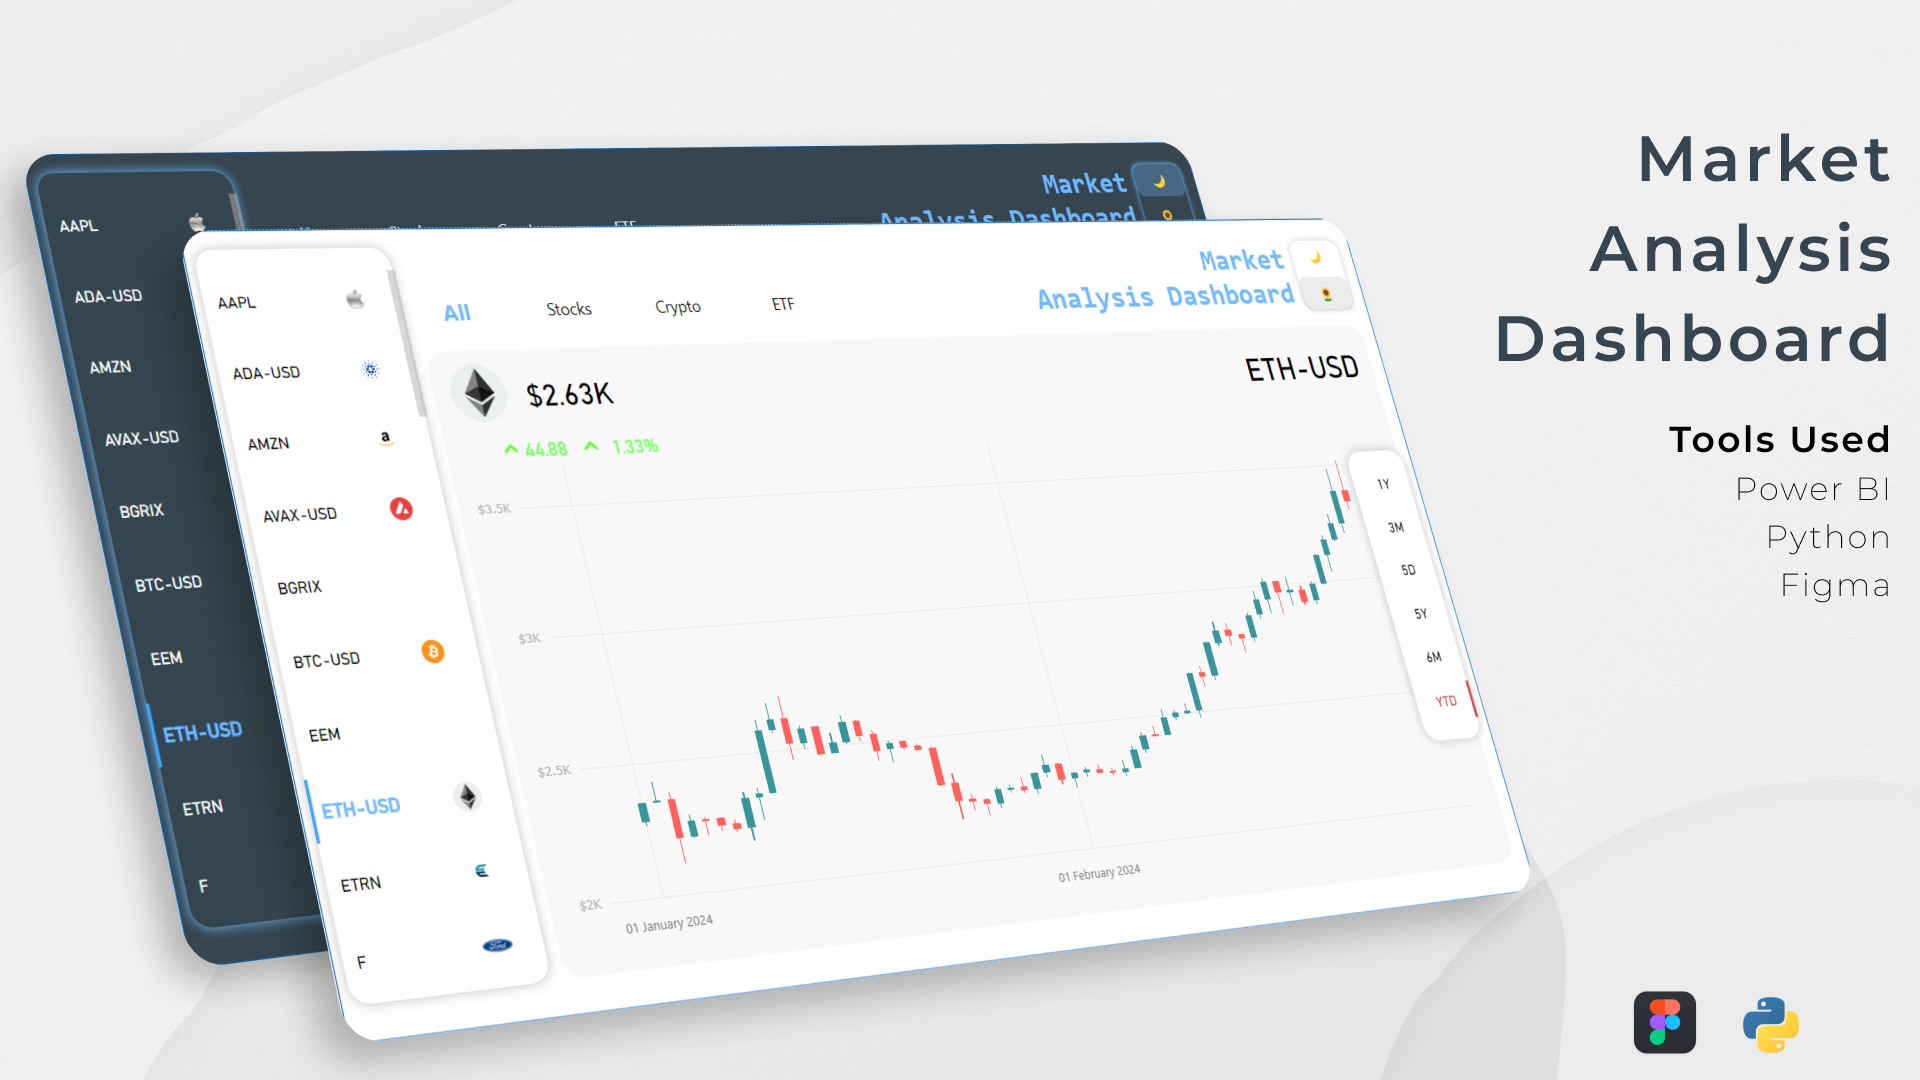

Layout of this report page (visuals, bound fields, positions):
{"tool":"powerbi","page":{"name":"All","canvas":[1280,720],"ordinal":0},"visuals":[{"type":"shape","box":[1.2,0,1279,719.8],"z":0},{"type":"shape","box":[206.8,118.2,1056.8,570.5],"z":1000},{"type":"shape","box":[0,7.4,204.9,691.4],"z":2000},{"type":"shape","box":[1195.5,18.2,74.5,88.2],"z":2500},{"type":"PBI_CV_886A053E_9DFD_4EA0_A47D_CCAEB89AF969","fields":{"Category":["Stocks Data.Date"],"open":["Sum(Stocks Data.Open)"],"close":["Sum(Stocks Data.Close)"],"high":["Sum(Stocks Data.High)"],"low":["Sum(Stocks Data.Low)"]},"box":[207.4,214.8,1037,474.1],"z":3000},{"type":"advancedSlicerVisual","fields":{"Values":["Stocks Data.Symbol"]},"box":[9.9,32.1,195.1,656.8],"z":4000},{"type":"shape","box":[1186.6,243.3,92.8,326.8],"z":5000},{"type":"advancedSlicerVisual","fields":{"Values":["Stocks Data.Date Category"]},"box":[1195.9,266,74.2,281.4],"z":6000},{"type":"advancedSlicerVisual","fields":{"Values":["Colour-Codes.Label"]},"box":[1195.5,18.2,69.1,88.2],"z":7000},{"type":"cardVisual","fields":{"Data":["Min(Stocks Data.Logo)"]},"box":[204.5,118.2,95.5,84.1],"z":8000},{"type":"card","fields":{"Values":["Min(Stocks Data.Symbol)"]},"box":[1086.6,118.6,177.3,83.5],"z":9000},{"type":"card","fields":{"Values":["Stocks Data.open_value"]},"box":[252.3,130.7,177.3,59.1],"z":10000},{"type":"card","fields":{"Values":["Stocks Data.Open_Close_Diff"]},"box":[277.7,202.2,55.4,23.7],"z":11000},{"type":"card","fields":{"Values":["Stocks Data.Diff_Percent"]},"box":[360.2,202.3,69.3,23.9],"z":12000},{"type":"cardVisual","fields":{"Data":["Stocks Data.Arrow_Colour"]},"box":[244.2,191.1,56.2,40.6],"z":13000},{"type":"cardVisual","fields":{"Data":["Stocks Data.Arrow_Colour"]},"box":[323.2,191.1,57.6,39.3],"z":14000},{"type":"textbox","box":[657.3,20.9,538.2,97.3],"z":15000},{"type":"pageNavigator","box":[196.4,55.5,444.5,50.9],"z":16000}]}

Visuals, with their boxes in screenshot pixels (x1, y1, x2, y2), scaled from the page's 1280x720 canvas onto the 1920x1080 screenshot:
shape: pyautogui.locateOnScreen(2, 0, 1919, 1079)
shape: pyautogui.locateOnScreen(310, 177, 1895, 1033)
shape: pyautogui.locateOnScreen(0, 11, 307, 1048)
shape: pyautogui.locateOnScreen(1793, 27, 1905, 160)
PBI_CV_886A053E_9DFD_4EA0_A47D_CCAEB89AF969 - Stocks Data.Date x Sum(Stocks Data.Open): pyautogui.locateOnScreen(311, 322, 1867, 1033)
advancedSlicerVisual - Stocks Data.Symbol: pyautogui.locateOnScreen(15, 48, 308, 1033)
shape: pyautogui.locateOnScreen(1780, 365, 1919, 855)
advancedSlicerVisual - Stocks Data.Date Category: pyautogui.locateOnScreen(1794, 399, 1905, 821)
advancedSlicerVisual - Colour-Codes.Label: pyautogui.locateOnScreen(1793, 27, 1897, 160)
cardVisual - Min(Stocks Data.Logo): pyautogui.locateOnScreen(307, 177, 450, 303)
card - Min(Stocks Data.Symbol): pyautogui.locateOnScreen(1630, 178, 1896, 303)
card - Stocks Data.open_value: pyautogui.locateOnScreen(378, 196, 644, 285)
card - Stocks Data.Open_Close_Diff: pyautogui.locateOnScreen(417, 303, 500, 339)
card - Stocks Data.Diff_Percent: pyautogui.locateOnScreen(540, 303, 644, 339)
cardVisual - Stocks Data.Arrow_Colour: pyautogui.locateOnScreen(366, 287, 451, 348)
cardVisual - Stocks Data.Arrow_Colour: pyautogui.locateOnScreen(485, 287, 571, 346)
textbox: pyautogui.locateOnScreen(986, 31, 1793, 177)
pageNavigator: pyautogui.locateOnScreen(295, 83, 961, 160)
